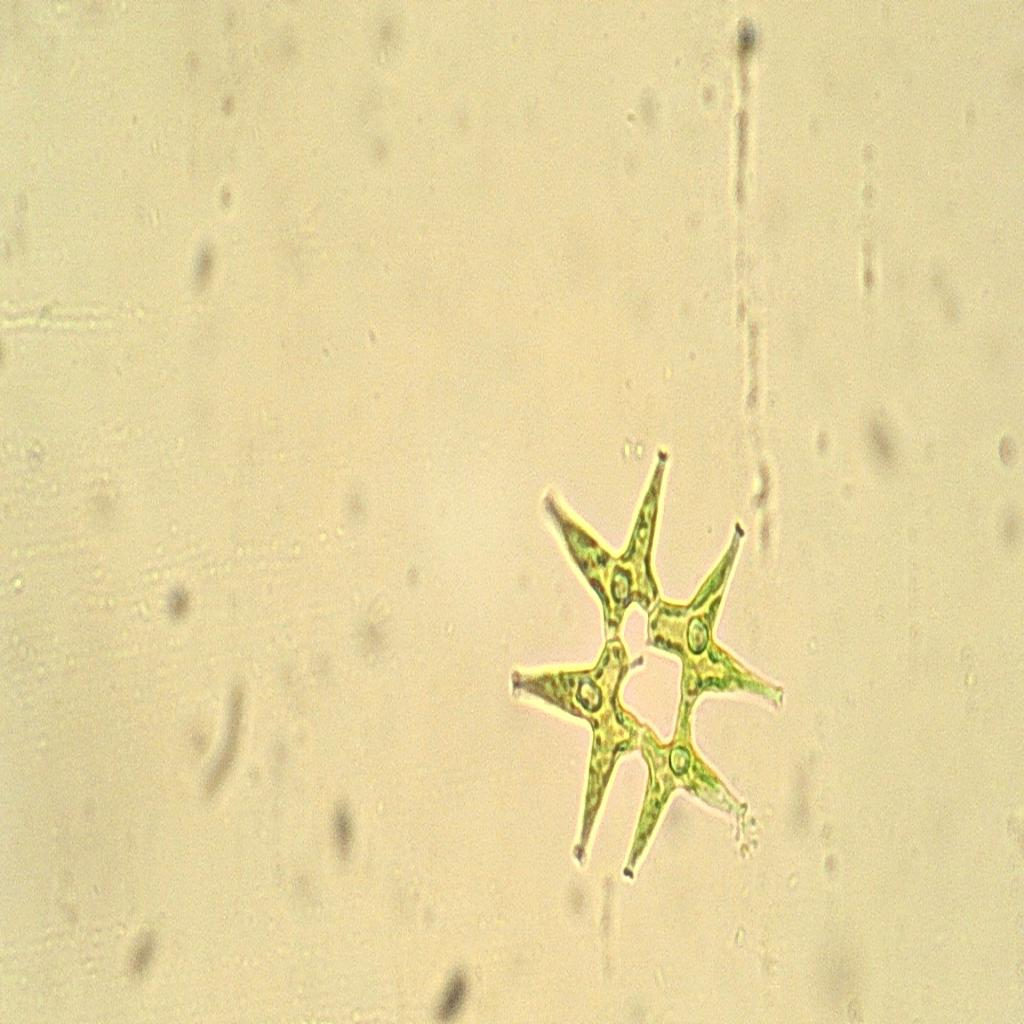Pediastrum_75FO: (498, 414, 793, 895)
